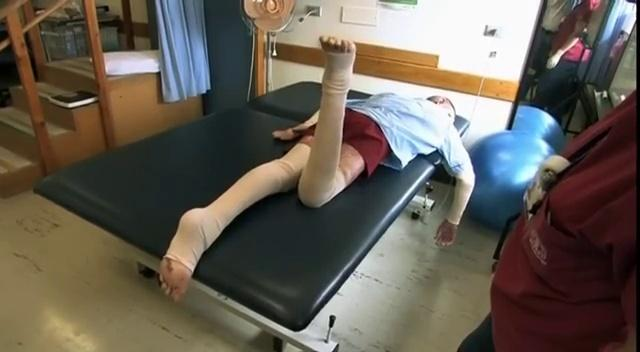patient: (154, 33, 476, 303)
